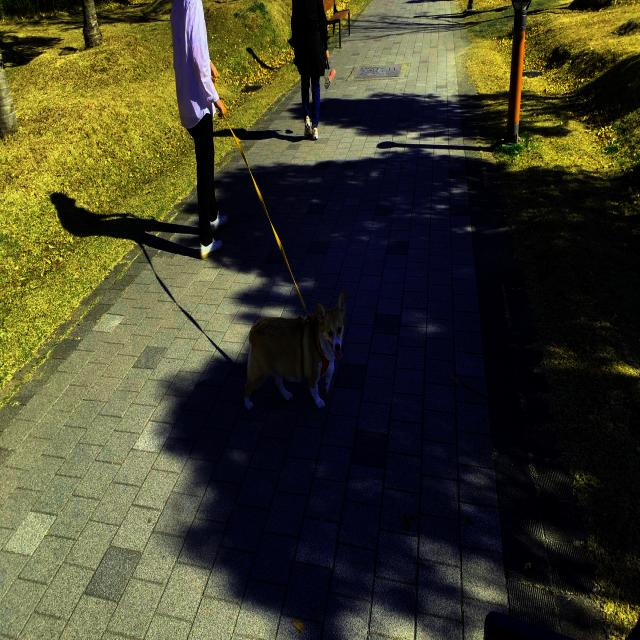Leashed_Dog: (195, 60, 346, 412)
